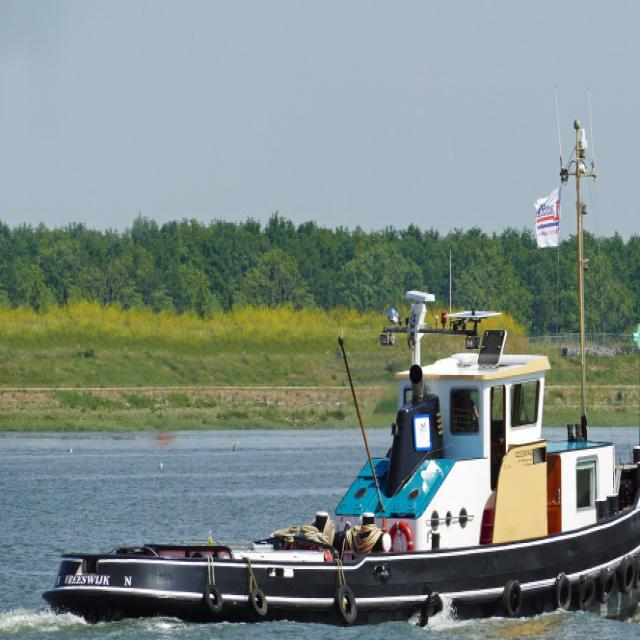tugboat: (38, 80, 640, 640)
